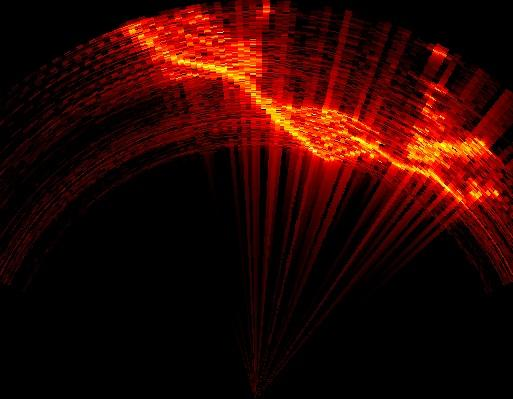shipwreck: (119, 16, 487, 203)
